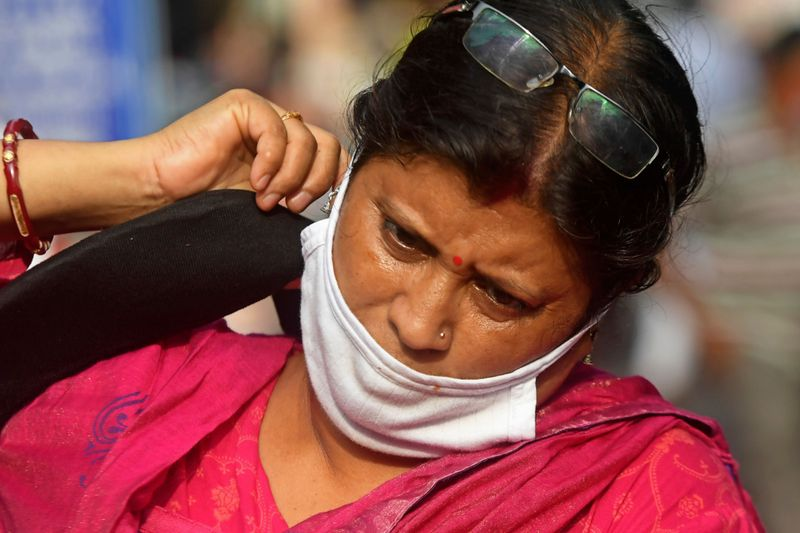with_incorrect_mask: (331, 170, 587, 427)
